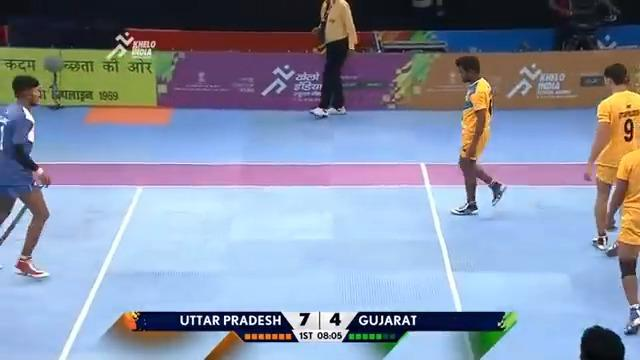Player: (583, 62, 639, 253), (0, 74, 52, 279), (449, 54, 506, 215), (605, 148, 639, 335), (308, 0, 358, 118)
referee: (548, 0, 619, 50)
